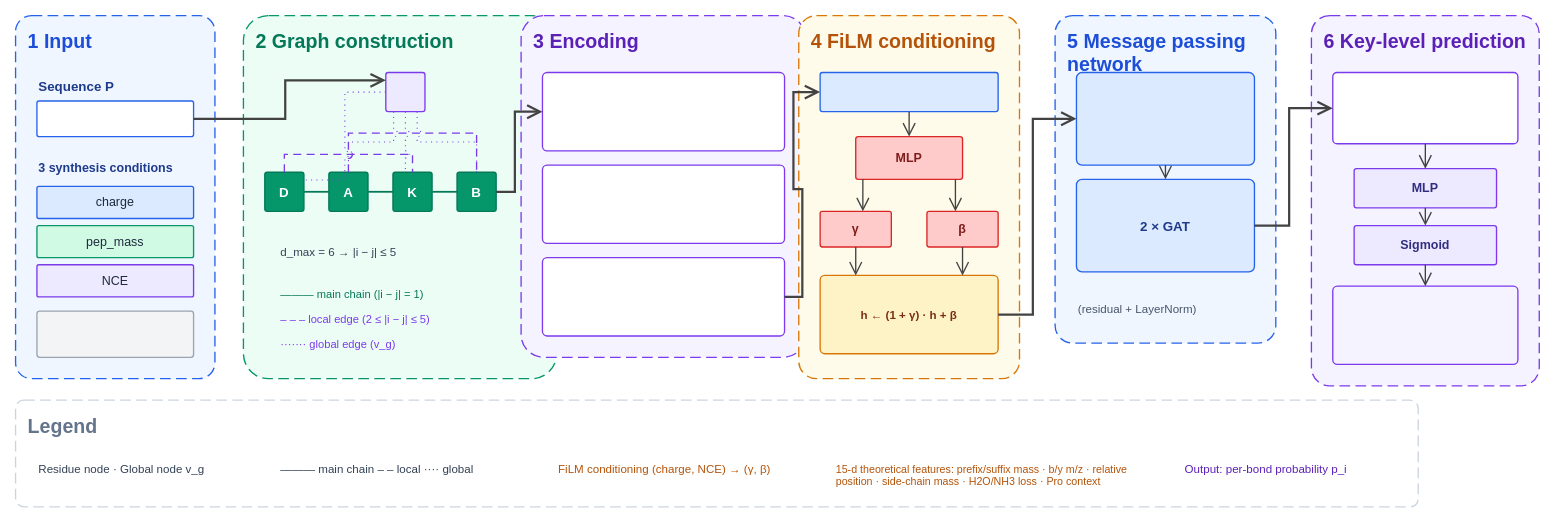
This 1556x523 diagram has some shape labels left out. The shapes that lost their labels are listed below. From the top down, each one's centre as x and y in pixels, then its label:
At pixel 405 91: "v_g".
At pixel 663 111: "Node encoding AA ⊕ pos ⊕ physchem".
At pixel 908 91: "[ charge, NCE ]".
At pixel 1425 107: "Key feature (+15-d theory)".
At pixel 115 118: "D A K B ⋯".
At pixel 1165 118: "3 × GCN".
At pixel 663 204: "Edge encoding type ⊕ dist ⊕ attrs".
At pixel 663 296: "Global node emb. + condition vector".
At pixel 115 334: "intensity / scan_num / rt (not used)".
At pixel 1425 325: "Bond probability p_i".
